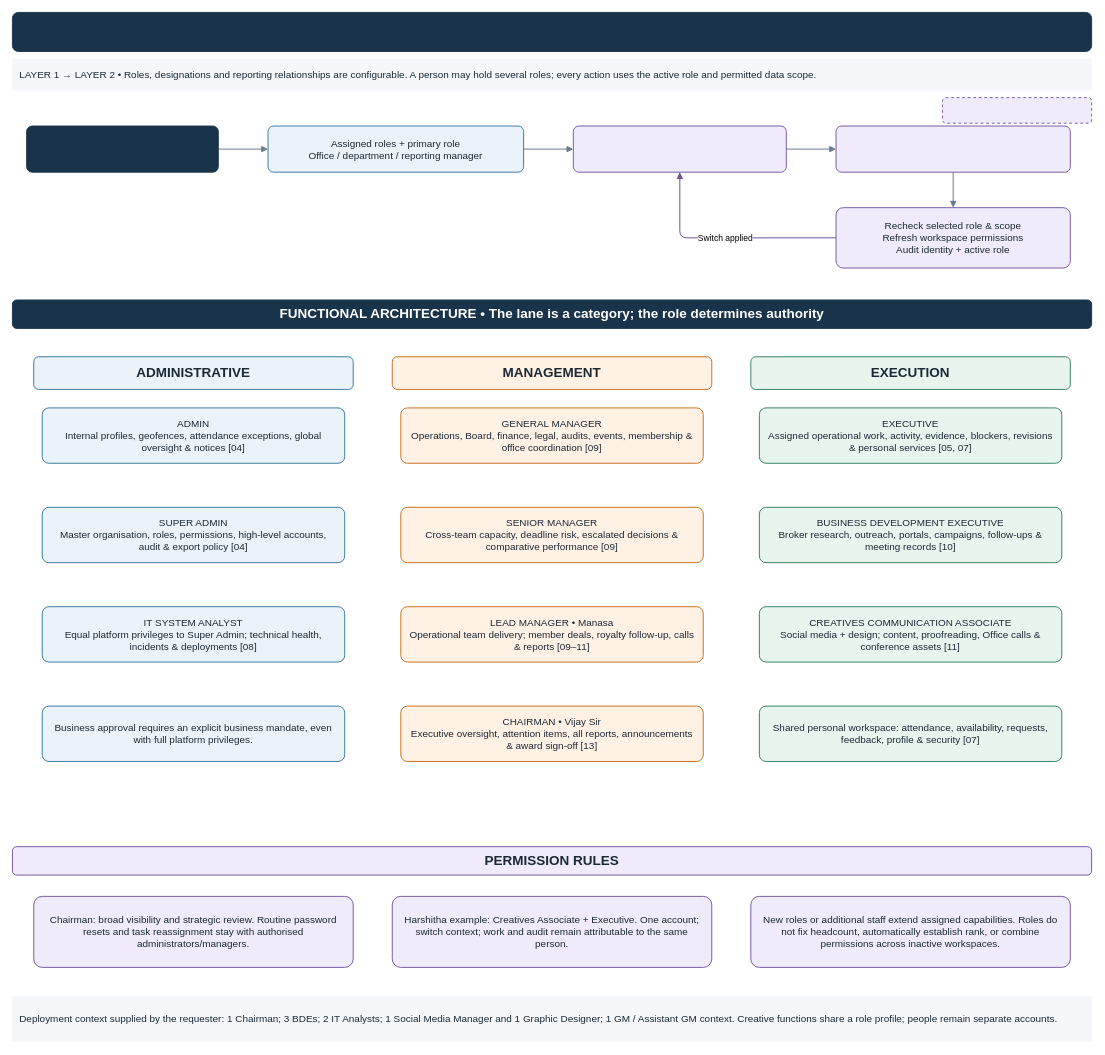
Some shapes in this 1105 by 1055 pixel diagram are drawn without their labels. Here are the shapes that lost their labels. From the top down, the centre of each, then its label:
At point 552,32: "03 • One identity, ten roles, three functional lanes".
At point 1017,110: "← OVERVIEW".
At point 122,148: "Single employee identity".
At point 679,148: "Primary workspace Only permitted sections appear".
At point 952,148: "Choose another authorised workspace".
